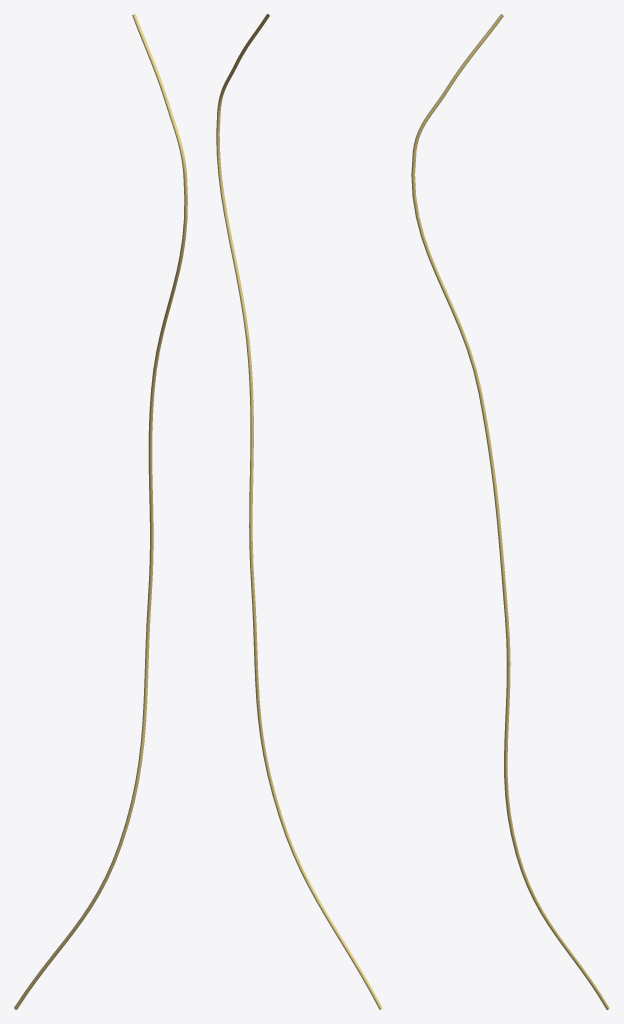
The picture shows the model from 3 angles, left to right: view 1: azimuth 30°, elevation 25°; view 2: azimuth 210°, elevation 25°; view 3: azimuth 270°, elevation 25°; orthographic projection. The views are drawn at different scales.
Visible parts, largest first — view 1: ZA_5f72512f26ad11b6; view 2: ZA_5f72512f26ad11b6; view 3: ZA_5f72512f26ad11b6.
Boxes of the visible parts, x1,y1,x2,y2 form: ZA_5f72512f26ad11b6: (14,14,187,1009); ZA_5f72512f26ad11b6: (216,14,382,1009); ZA_5f72512f26ad11b6: (411,14,609,1009).
Bounding box in the file's own units: 0.0274 × 0.3045 × 0.0532.
